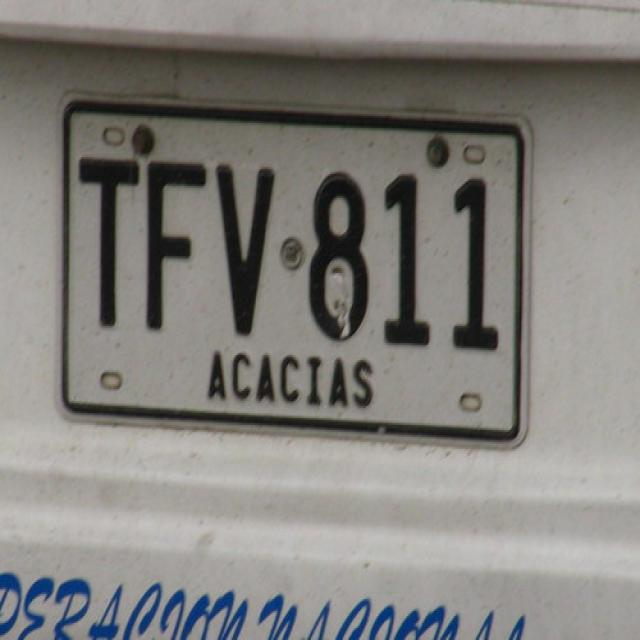placas: (67, 102, 522, 433)
